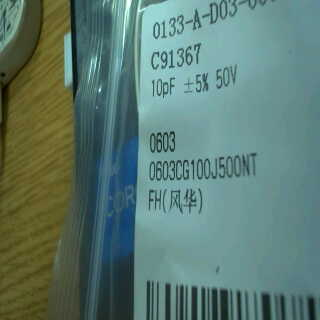10pF: (147, 73, 181, 103)
